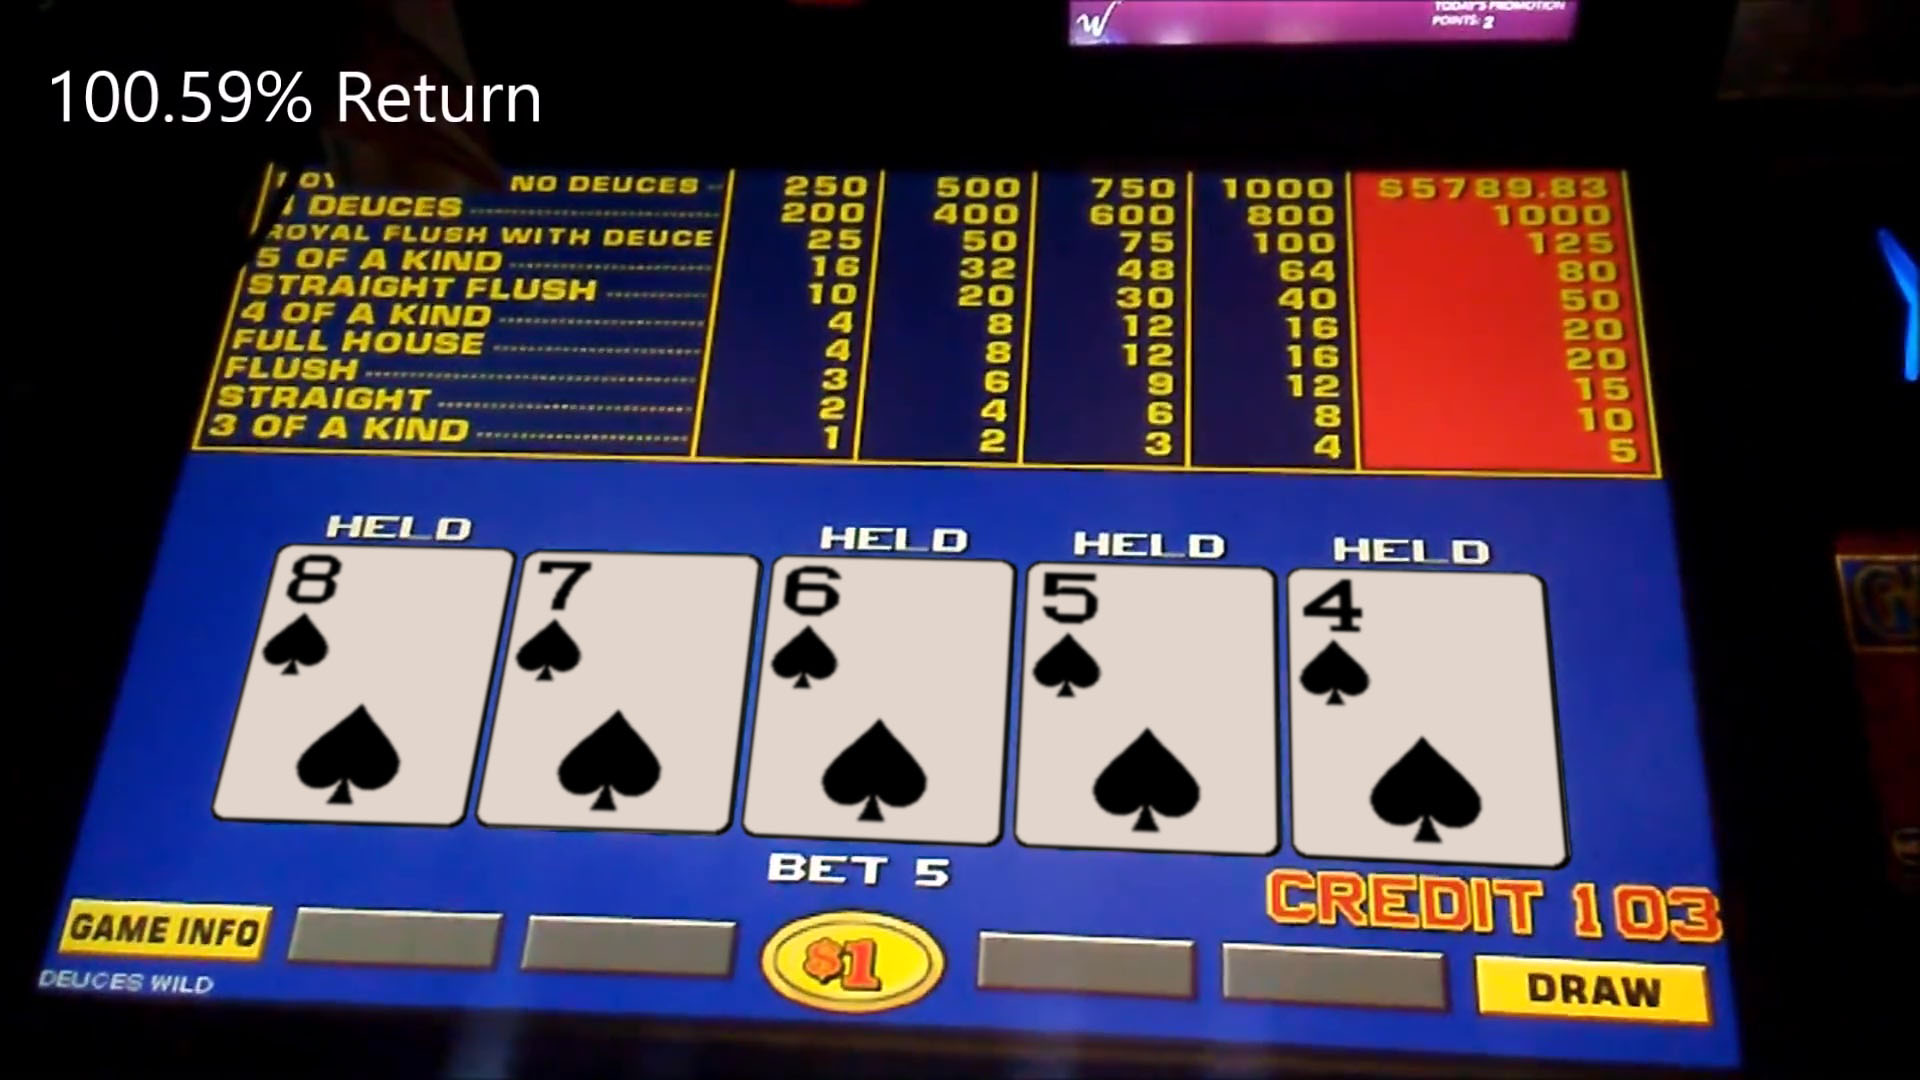S4: (1294, 575, 1540, 707)
S5: (1027, 566, 1270, 704)
S6: (771, 558, 1007, 696)
S7: (520, 553, 745, 688)
S8: (265, 549, 491, 684)
